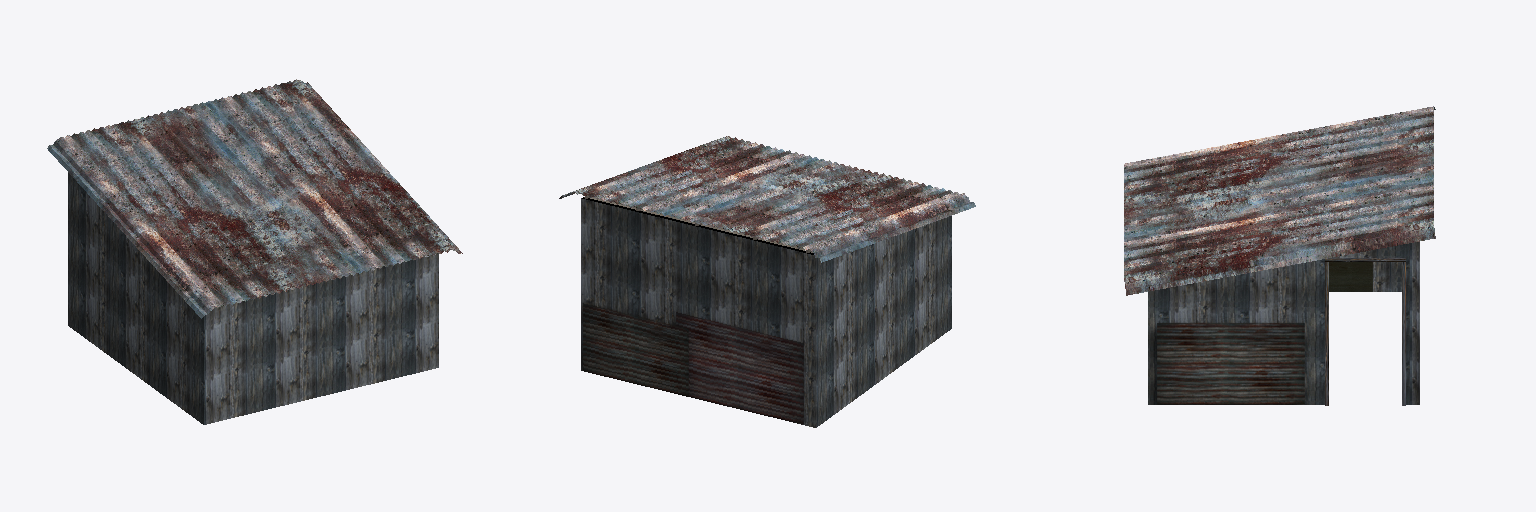
3 renders of one model, left to right at view 1: azimuth 30°, elevation 25°; view 2: azimuth 150°, elevation 25°; view 3: azimuth 270°, elevation 25°, orthographic.
Parts seen in each view (by area): view 1: _; view 2: _; view 3: _.
Part boxes in pixels (x1,y1,x2,y2): _: (47,79,462,424); _: (559,136,975,427); _: (1124,106,1435,405).
Size of the model in its own units: 2.23 by 1.5 by 2.3.
1 materials, 1 textured.